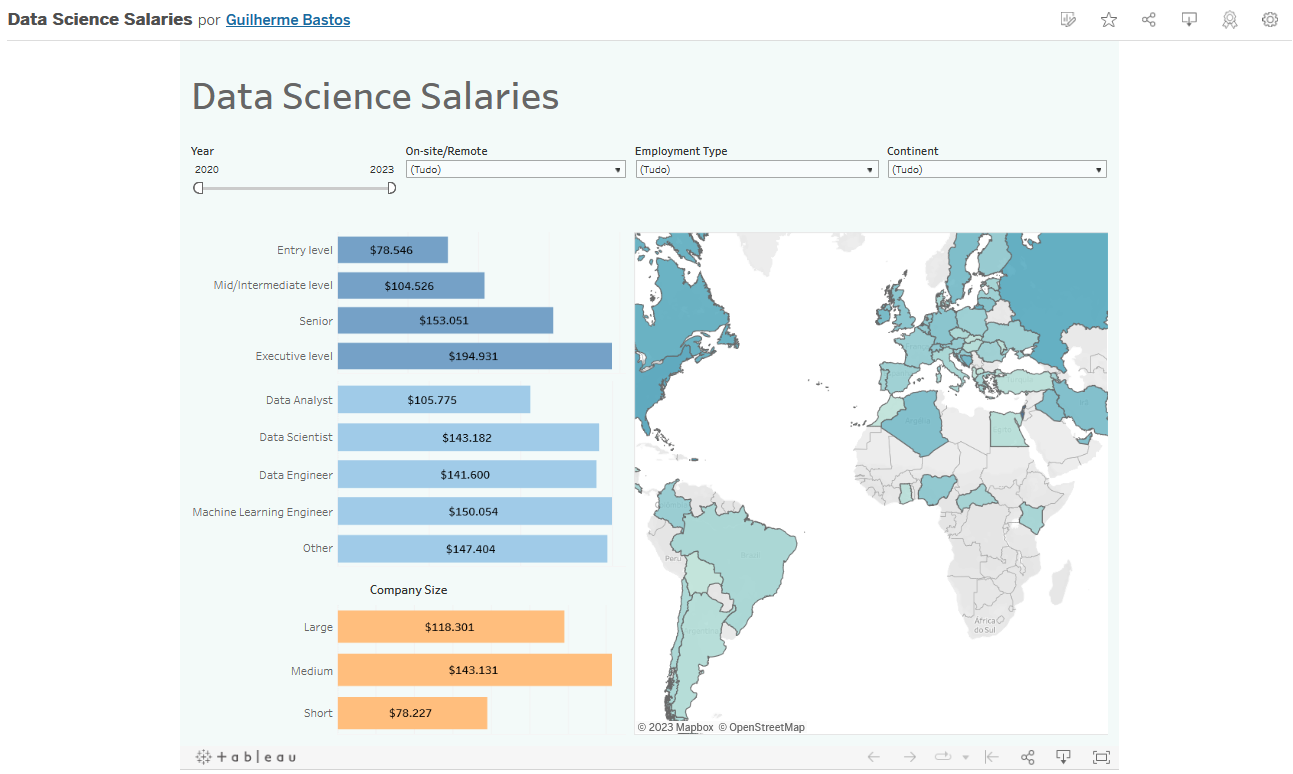

The dashboard page shown, as its layout file describes it:
{"tool":"tableau","page":{"name":"Data Science Salaries","canvas":[1024,768],"ordinal":0},"visuals":[{"type":"text","box":[8,8,1008,97.5]},{"type":"filter","title":"Average Salary per Location","param":"[federated.0vvdlyk126lagm1125wyx1i7x8m2].[none:work_year:qk]","box":[8,105.5,234.3,98.5]},{"type":"filter","title":"Average Salary per Location","param":"[federated.0vvdlyk126lagm1125wyx1i7x8m2].[none:Calculation_1185009673008119808:n","box":[242.3,105.5,249.5,98.5]},{"type":"filter","title":"Average Salary per Location","param":"[federated.0vvdlyk126lagm1125wyx1i7x8m2].[none:Calculation_1185009673015283716:n","box":[491.8,105.5,275,98.5]},{"type":"filter","title":"Average Salary per Location","param":"[federated.0vvdlyk126lagm1125wyx1i7x8m2].[none:region:nk]","box":[766.7,105.5,249.3,98.5]},{"type":"worksheet","title":"Average Salary for Experience Level","mark":"Automatic","rows":["Calculation_1185009673011818497"],"cols":["salary_in_usd"],"box":[8,204,483.4,163]},{"type":"worksheet","title":"Average Salary per Location","mark":"Multipolygon","box":[491.4,204,524.6,556]},{"type":"worksheet","title":"Average Salary for Job Title","mark":"Automatic","cols":["salary_in_usd"],"box":[8,367,483.4,210.1]},{"type":"worksheet","title":"Average salary for company size","mark":"Automatic","rows":["Calculation_1185009673021476869"],"cols":["salary_in_usd"],"box":[8,577.1,483.4,182.9]}]}

Visuals, with their boxes on the page's 1024x768 design canvas (x1, y1, x2, y2). These are canvas units, not pixel positions in the 1293x774 screenshot, which may show the page scaled, cropped or inside an application window:
text: [8,8,1016,106]
"Average Salary per Location" filter: [8,106,242,204]
"Average Salary per Location" filter: [242,106,492,204]
"Average Salary per Location" filter: [492,106,767,204]
"Average Salary per Location" filter: [767,106,1016,204]
"Average Salary for Experience Level" worksheet: [8,204,491,367]
"Average Salary per Location" worksheet (Multipolygon marks): [491,204,1016,760]
"Average Salary for Job Title" worksheet: [8,367,491,577]
"Average salary for company size" worksheet: [8,577,491,760]
